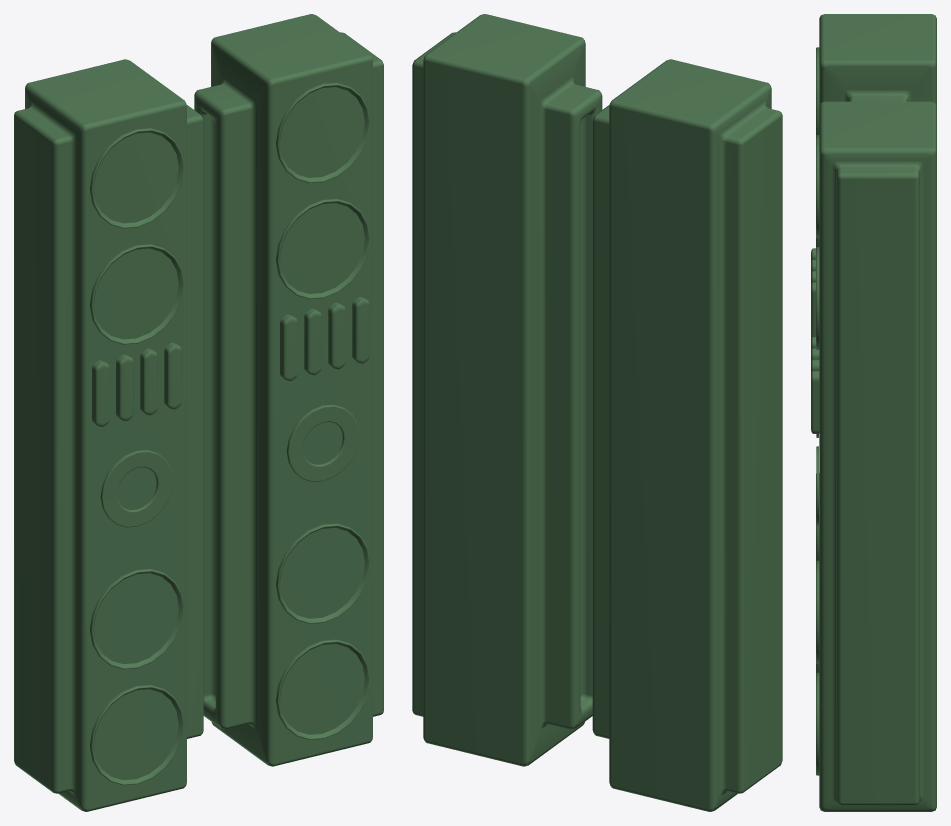
The model's file is tablet.fbx.
The picture shows the model from 3 angles, left to right: view 1: azimuth 30°, elevation 25°; view 2: azimuth 150°, elevation 25°; view 3: azimuth 270°, elevation 25°; orthographic projection. The views are drawn at different scales.
Visible parts, largest first — view 1: griff (×2), dings1 (×2), dings5 (×2), dings4 (×2), dings3 (×2), dings2 (×2), anderesdings2 (×2), anderesdings1 (×2), anderesdings4 (×2), anderesdings3 (×2); view 2: griff (×2); view 3: griff (×2), dings5 (×2), anderesdings4, dings3, dings2, dings4, anderesdings1.
Boxes of the visible parts, x1=… form: griff (×2): x1=14, y1=14, x2=383, y2=811; dings1 (×2): x1=100, y1=404, x2=359, y2=527; dings5 (×2): x1=90, y1=82, x2=370, y2=228; dings4 (×2): x1=90, y1=199, x2=370, y2=344; dings3 (×2): x1=90, y1=523, x2=369, y2=669; dings2 (×2): x1=90, y1=639, x2=369, y2=785; anderesdings2 (×2): x1=140, y1=308, x2=321, y2=415; anderesdings1 (×2): x1=164, y1=314, x2=297, y2=409; anderesdings4 (×2): x1=92, y1=297, x2=369, y2=427; anderesdings3 (×2): x1=116, y1=302, x2=345, y2=421; griff (×2): x1=412, y1=14, x2=782, y2=811; griff (×2): x1=819, y1=14, x2=936, y2=811; dings5 (×2): x1=816, y1=47, x2=819, y2=237; anderesdings4: x1=811, y1=371, x2=819, y2=433; dings3: x1=816, y1=560, x2=819, y2=663; dings2: x1=816, y1=672, x2=819, y2=775; dings4: x1=816, y1=247, x2=819, y2=349; anderesdings1: x1=811, y1=282, x2=815, y2=340.
Size of the model in its own units: 3.14 by 6.24 by 1.07.
